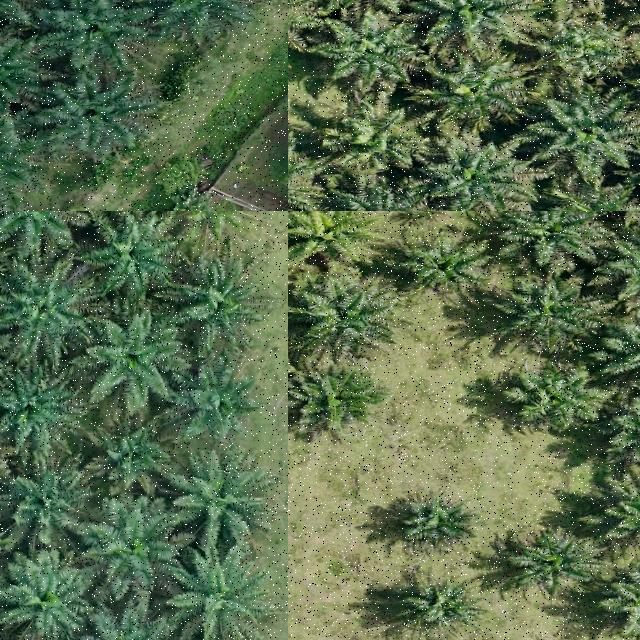Ganoderma: (288, 211, 368, 257), (186, 211, 246, 233)
